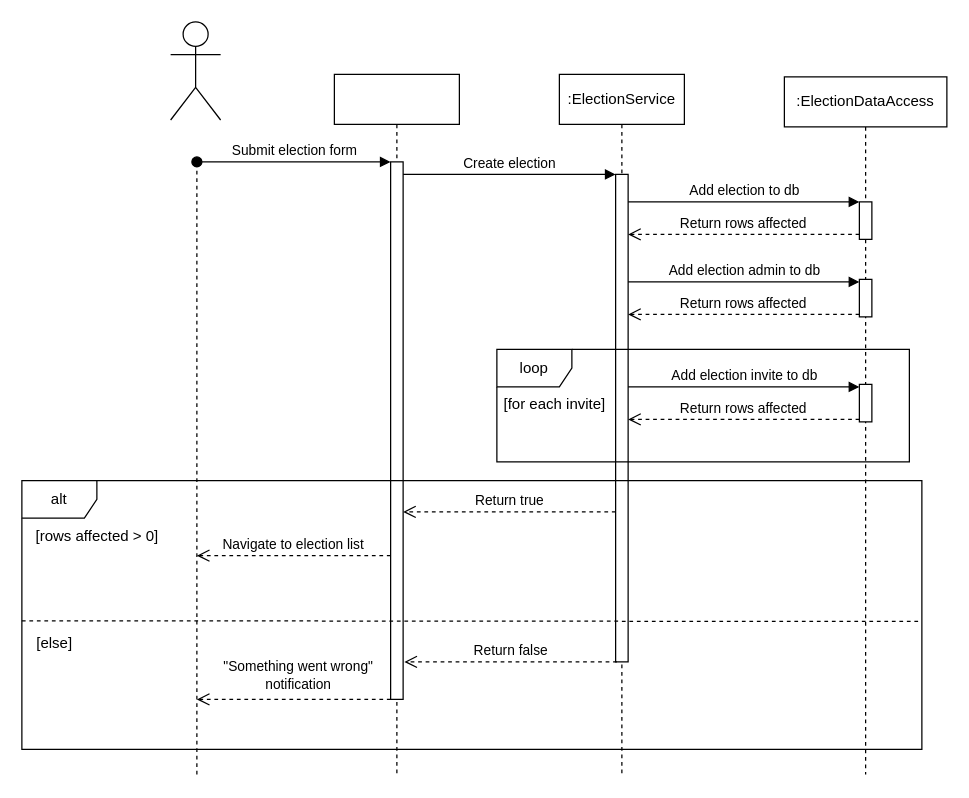
Image size: 969x798. Some labels were removed from this diagram. The shapes that lost their labels are listed below. From the top down, each one's box as (x1, y1, x2, y2) in pixels, then its label:
(169, 21, 221, 120): Actor
(333, 73, 459, 774): :AdminPage
